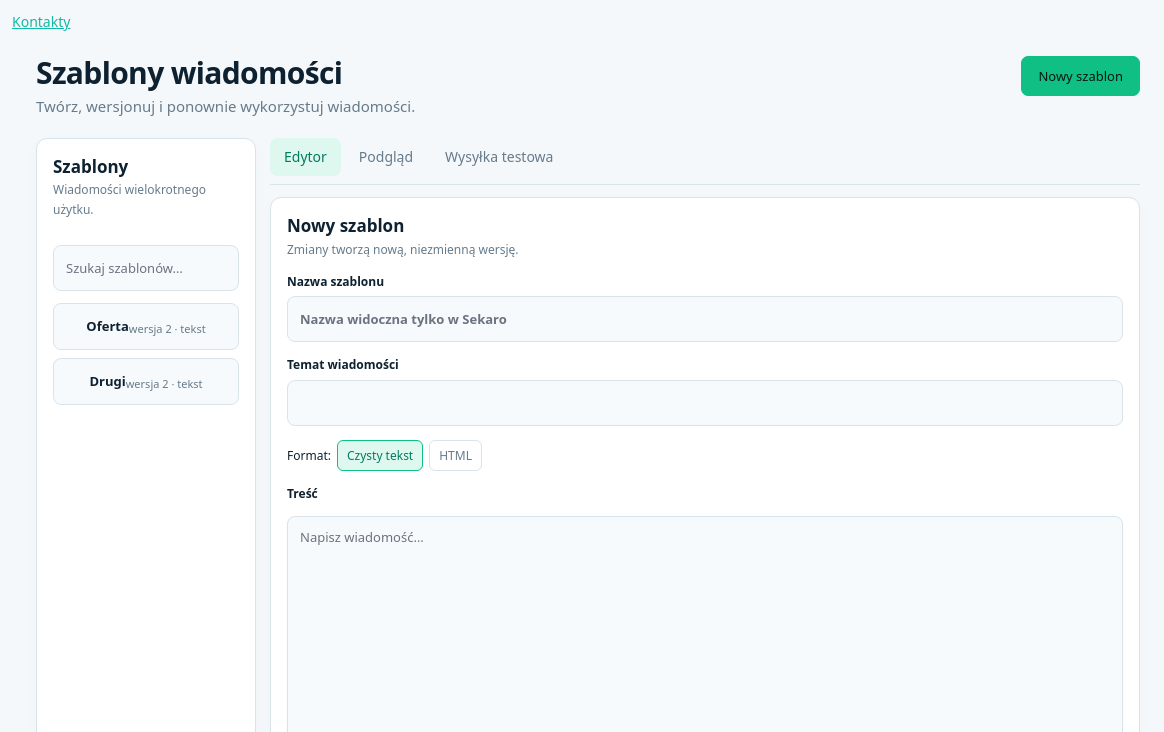
Test: ignores a preview that arrives after the draft changes
This screenshot has width=1164, height=732.
Click the button "Oferta wersja 2 · tekst": (146, 326) [53,303,239,350]
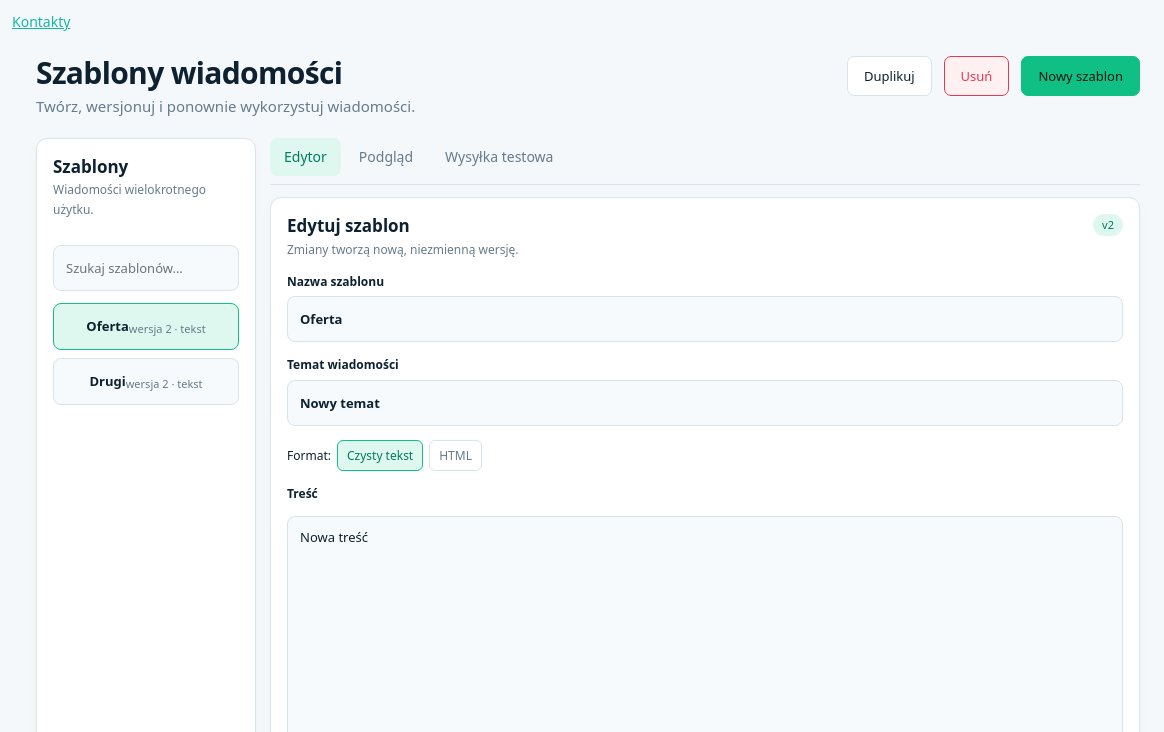
Now the field showing "Nowy temat" is shown, box [287,380,1123,426]
Click the button "Podgląd": (386, 157) [345,138,427,176]
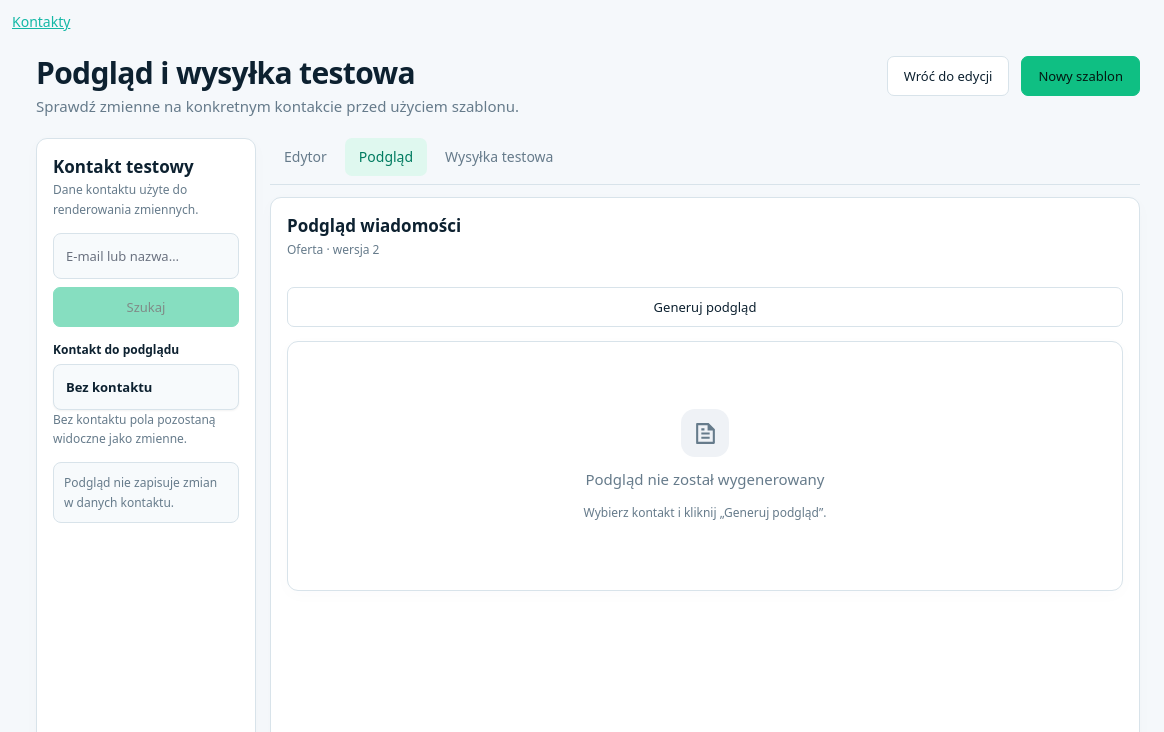
Click the button "Generuj podgląd": (705, 307) [287,287,1123,327]
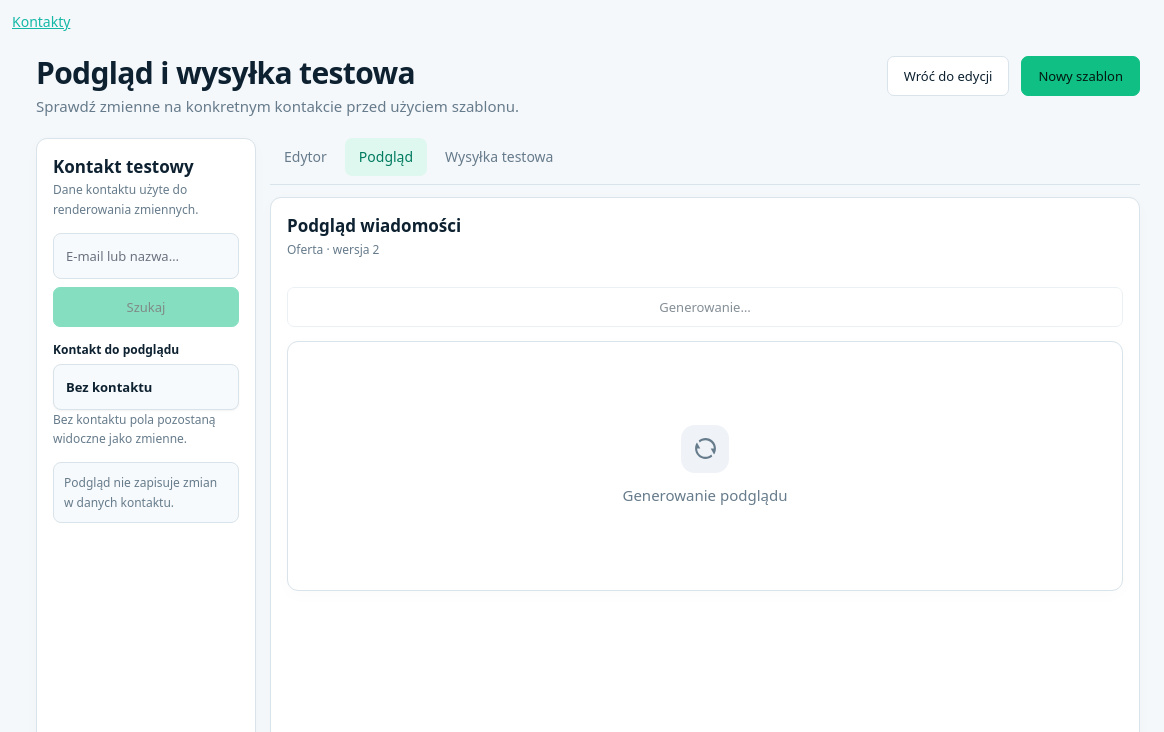
Click the button "Edytor": (305, 157) [270,138,341,176]
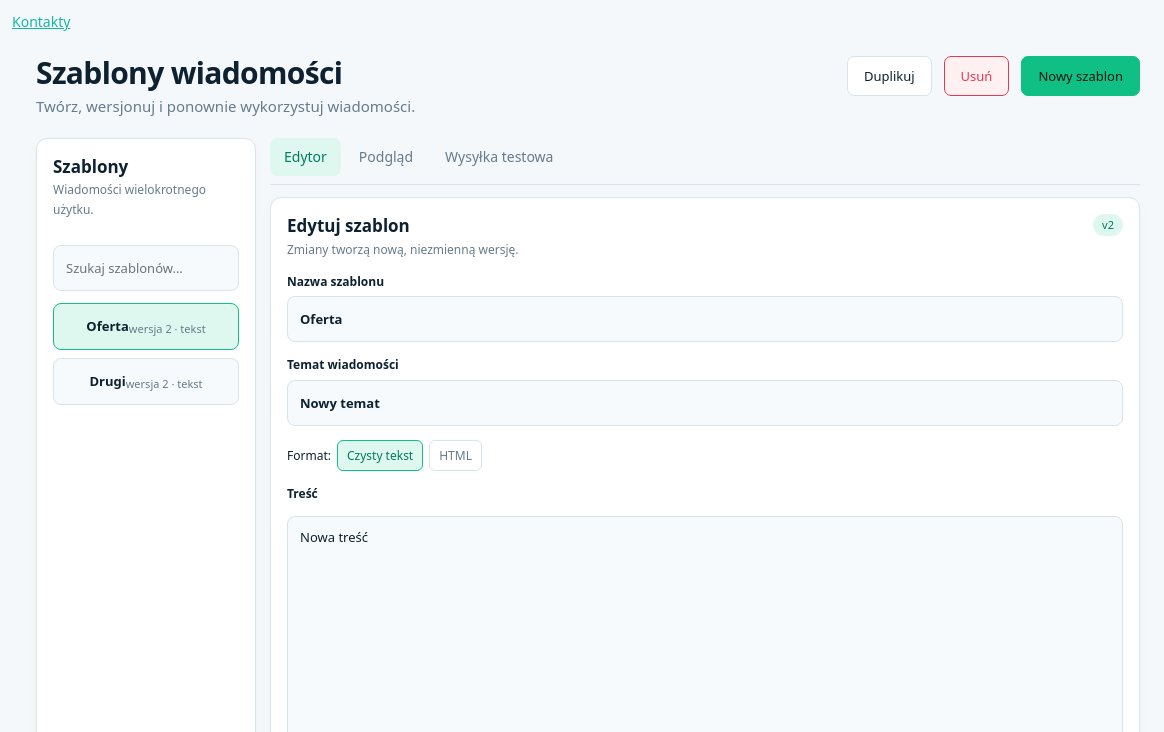
Replace the text in the field labelled "Temat wiadomości" with "Inny": (705, 403) [287,380,1123,426]
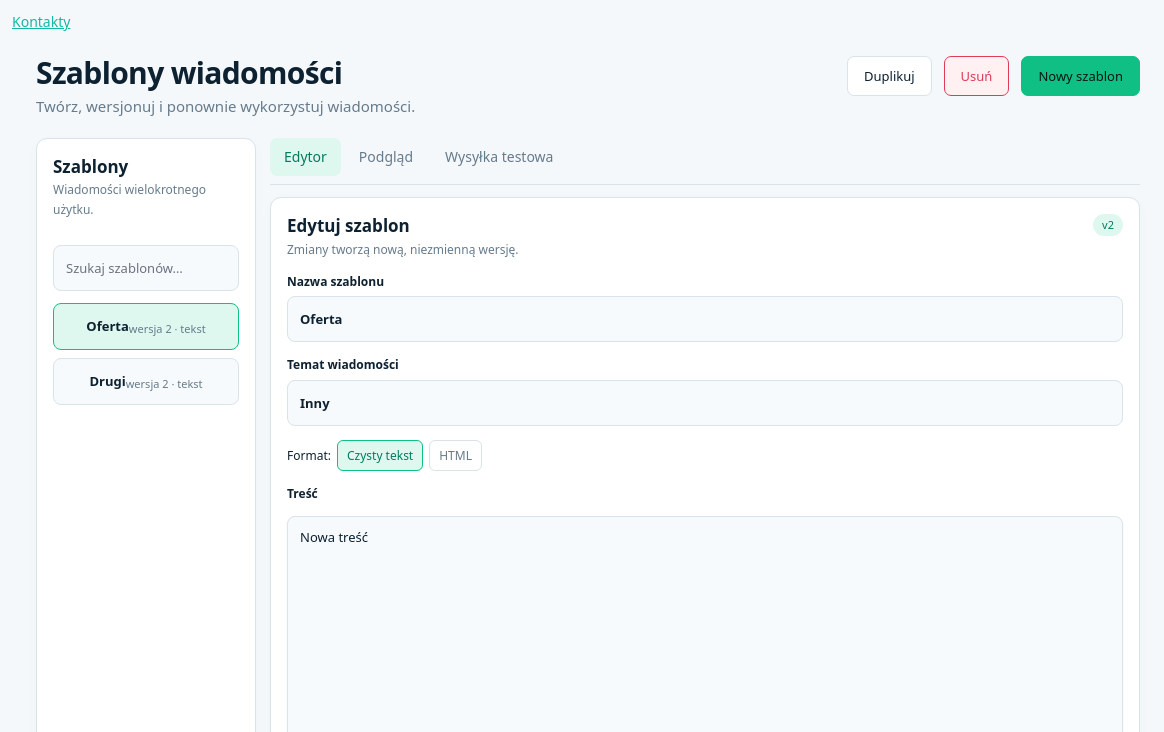
Click the button "Podgląd": (386, 157) [345,138,427,176]
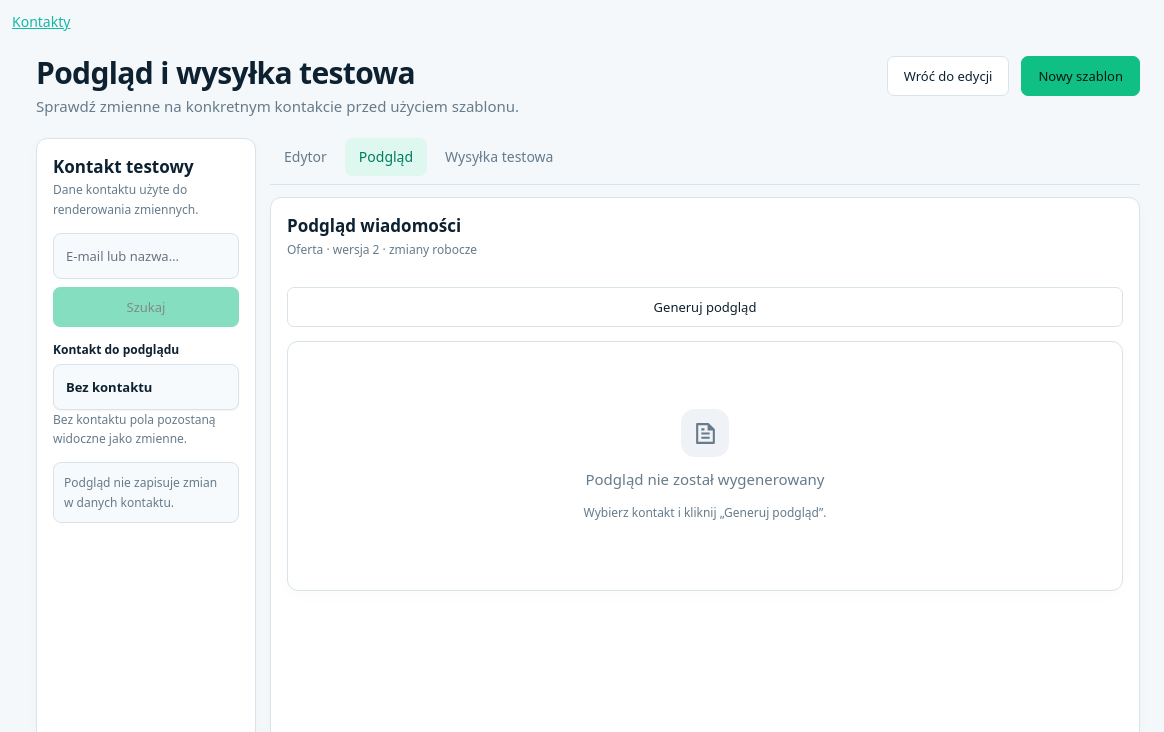
Now the heading "Podgląd nie został wygenerowany" is shown, box [586,469,825,491]
